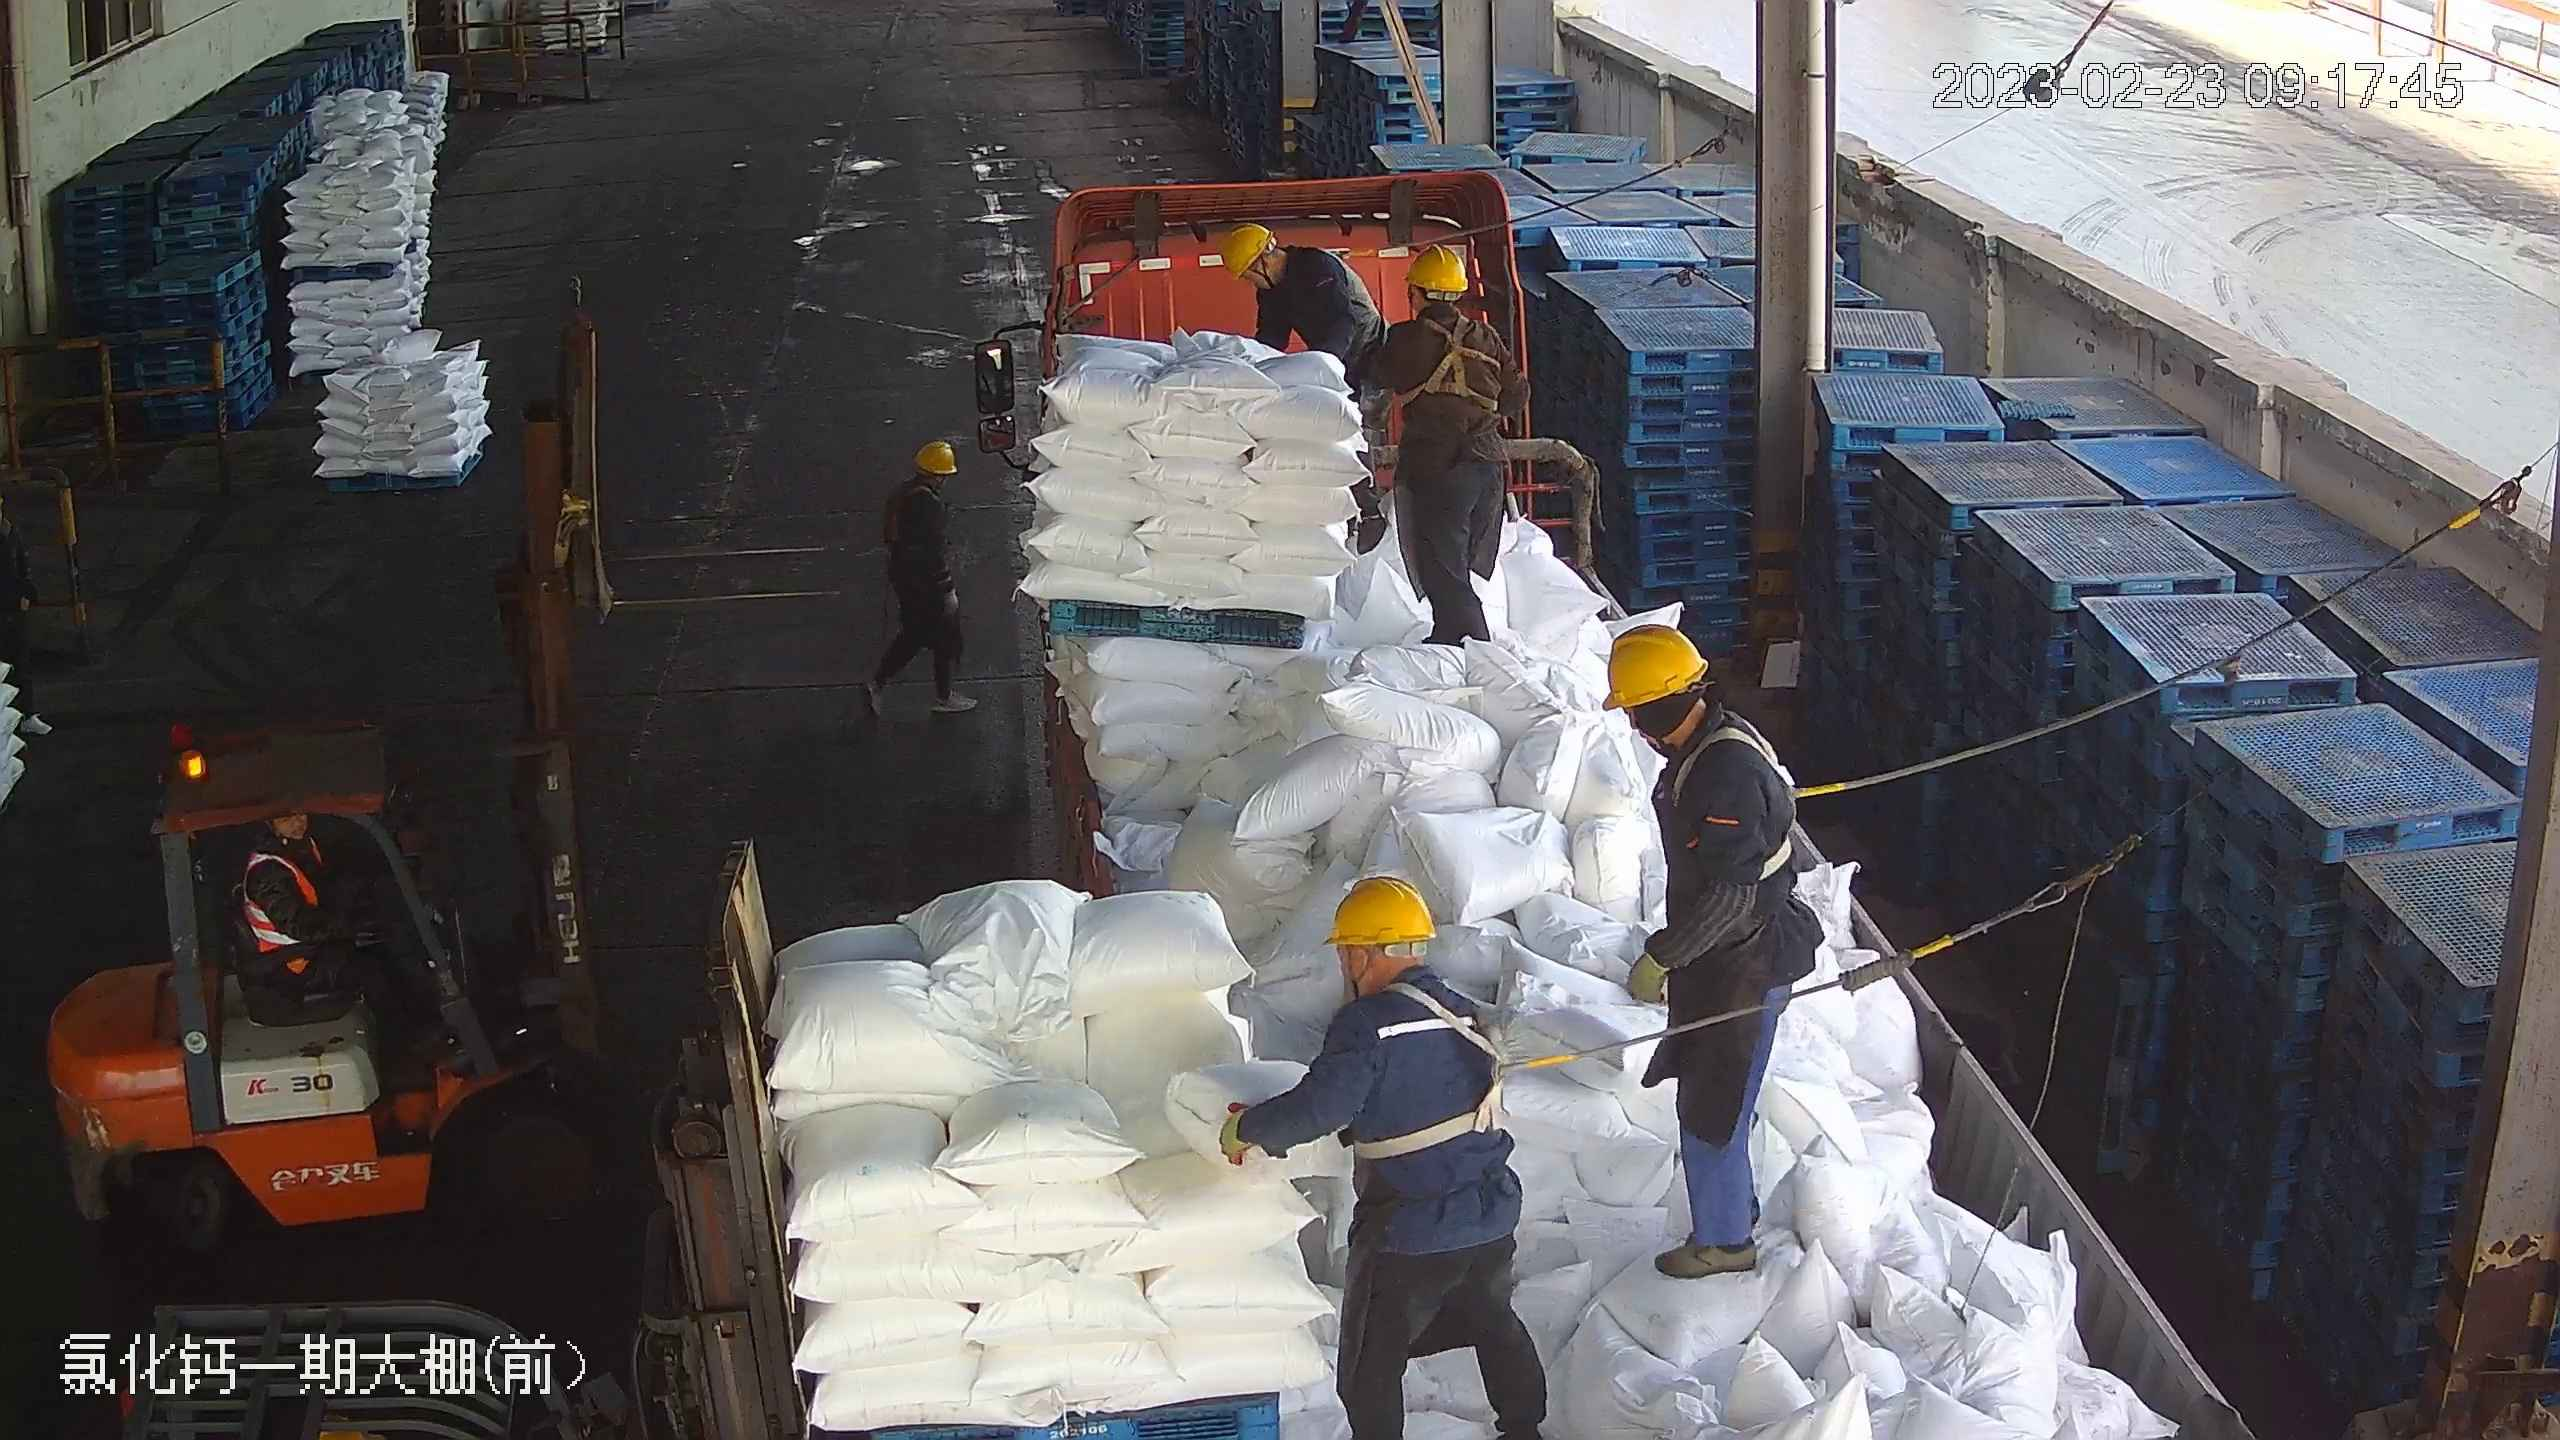belt: (1354, 984, 1577, 1156), (1678, 731, 1845, 887), (1403, 311, 1502, 413), (1321, 240, 1385, 273)
head: (1304, 877, 1492, 1091), (1597, 622, 1782, 825), (1386, 249, 1505, 376), (1212, 223, 1331, 321), (881, 437, 963, 538)
helmet: (1596, 621, 1708, 707), (1319, 876, 1435, 948), (1214, 220, 1274, 279), (1403, 243, 1472, 294), (913, 438, 957, 473)
people: (1221, 873, 1553, 1440), (1602, 620, 1818, 1284), (1369, 243, 1529, 648), (231, 811, 446, 1061), (865, 433, 978, 721)
truck: (980, 168, 2257, 1433)
